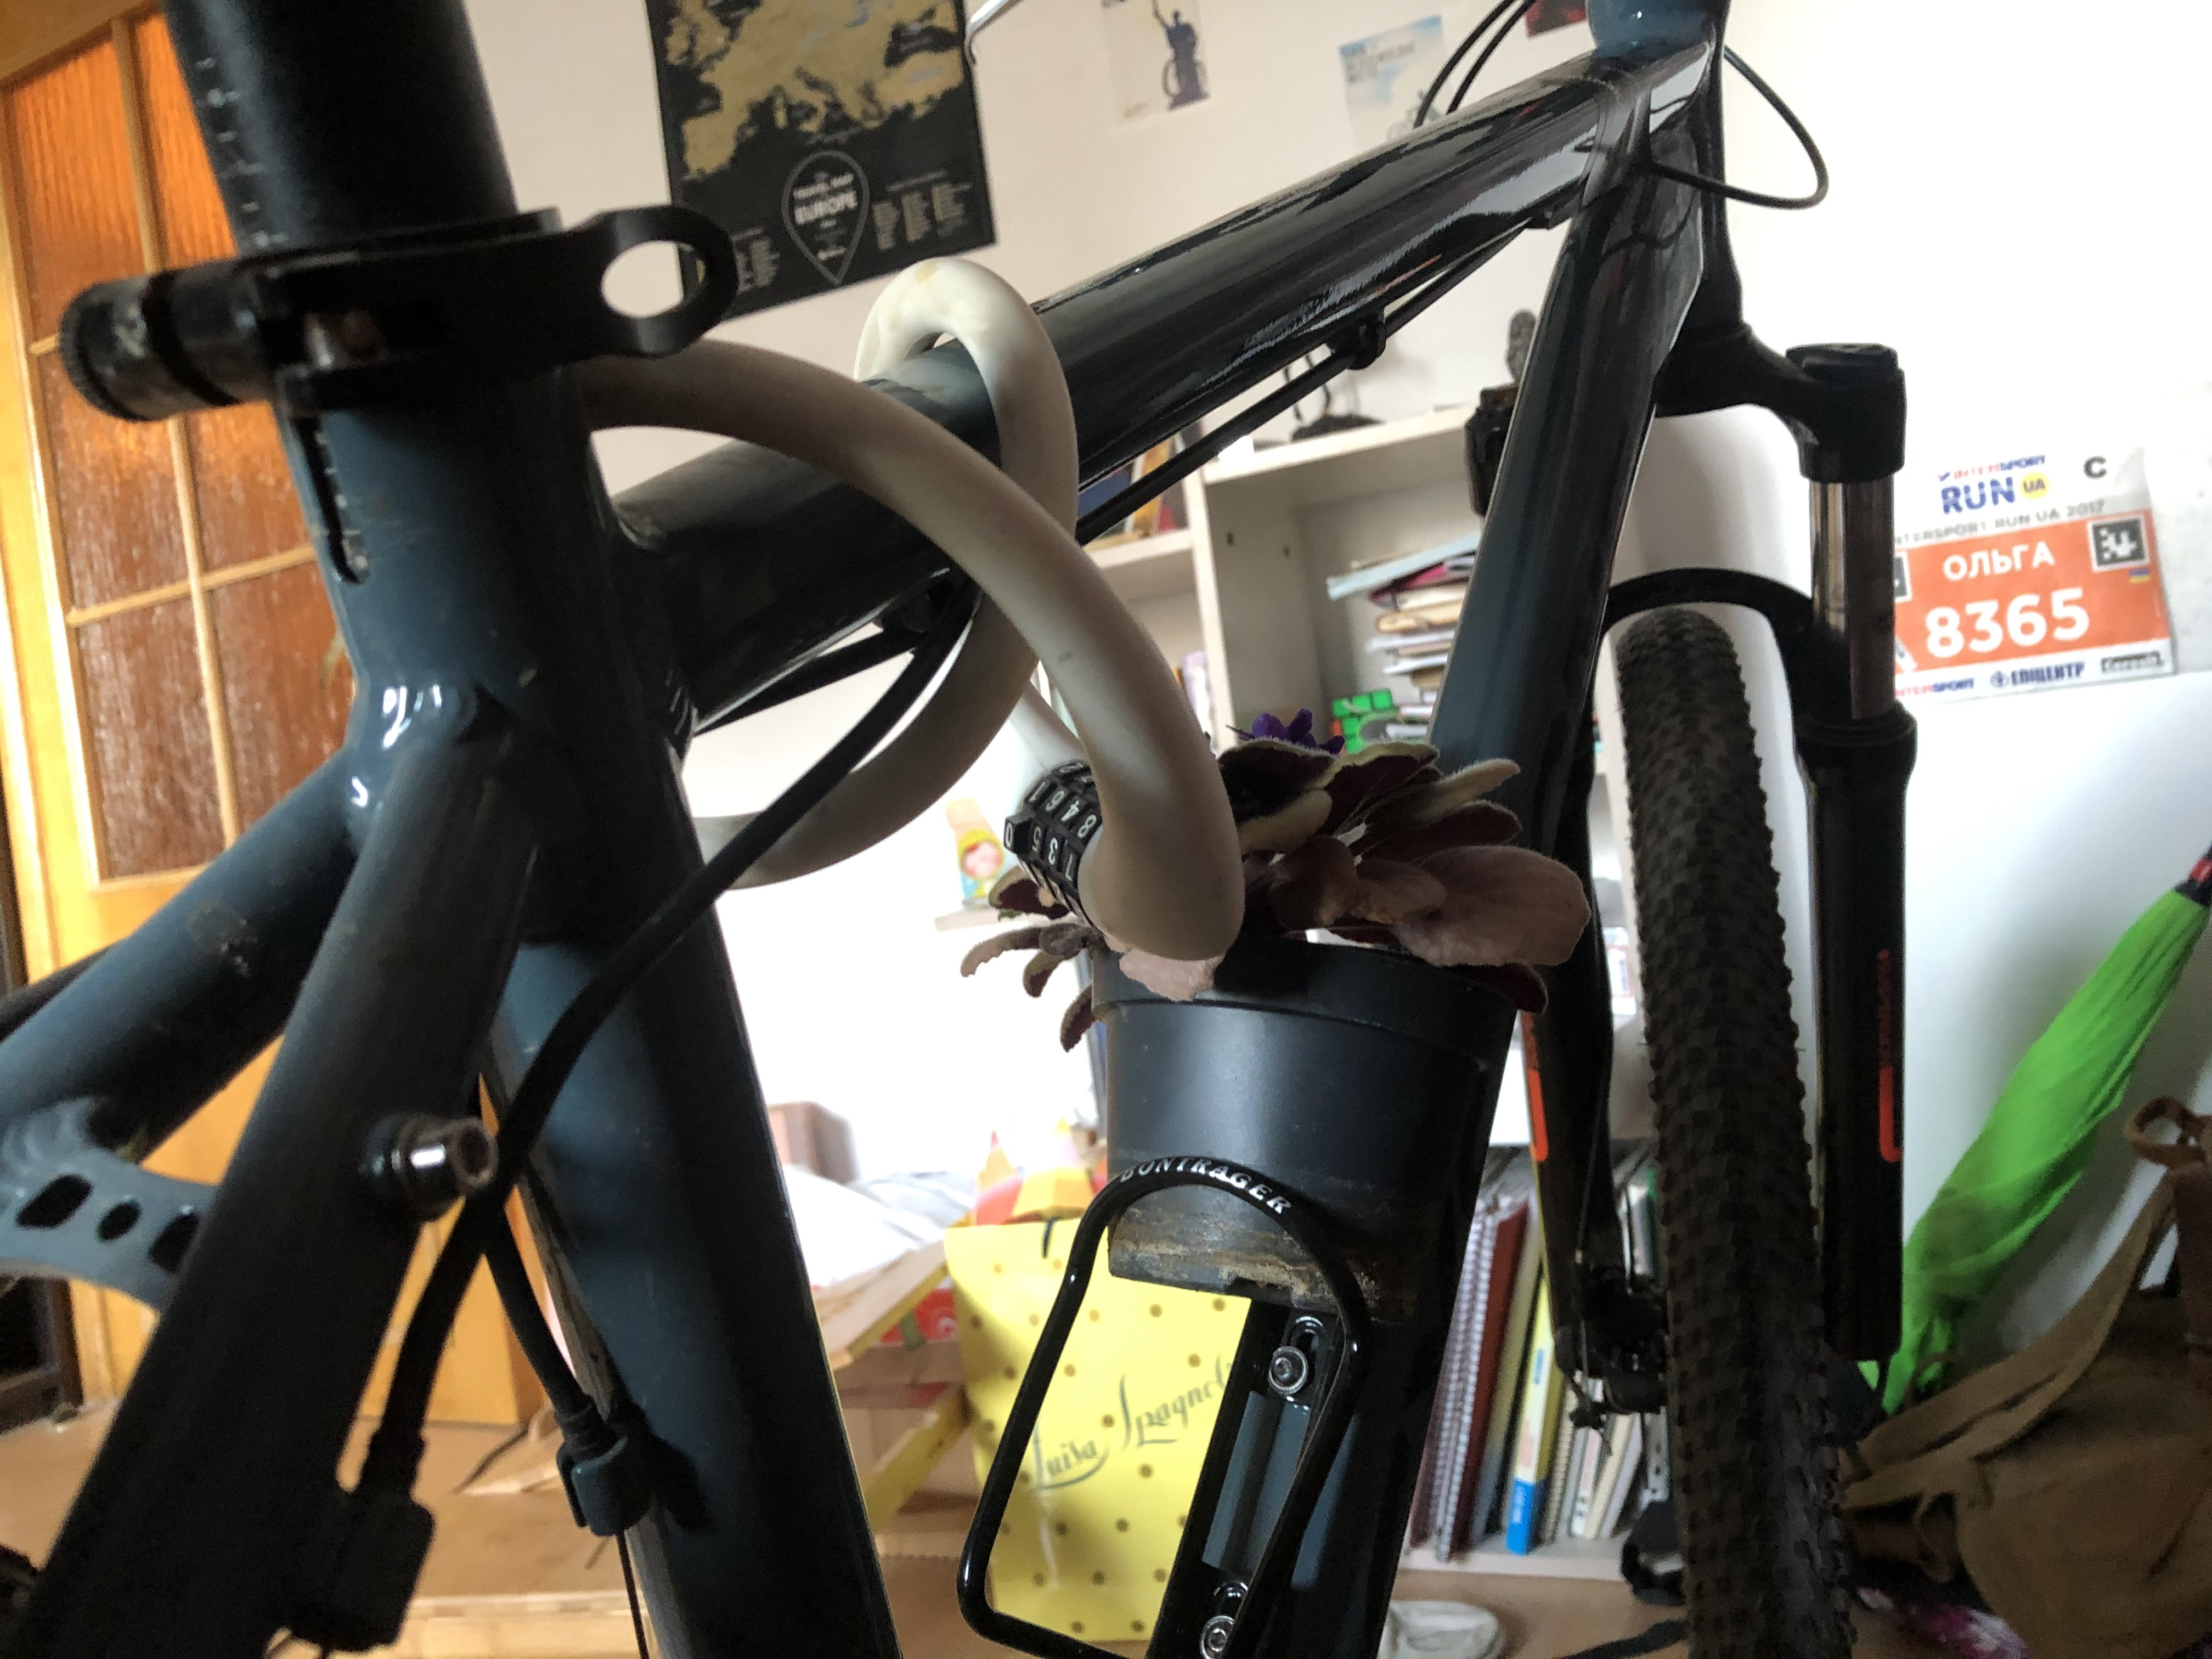ignore: (1160, 692, 1588, 981)
